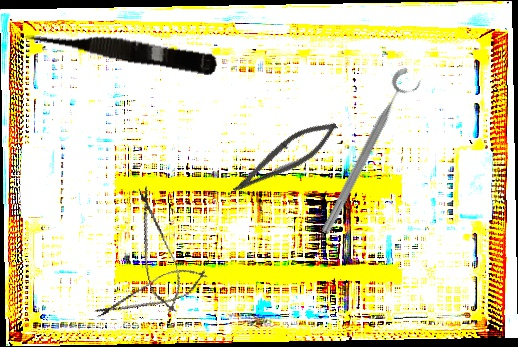Fixation Ring: (315, 64, 427, 242)
Micro Scissor: (19, 20, 220, 77), (227, 110, 344, 207), (125, 181, 189, 320), (90, 259, 213, 329)
